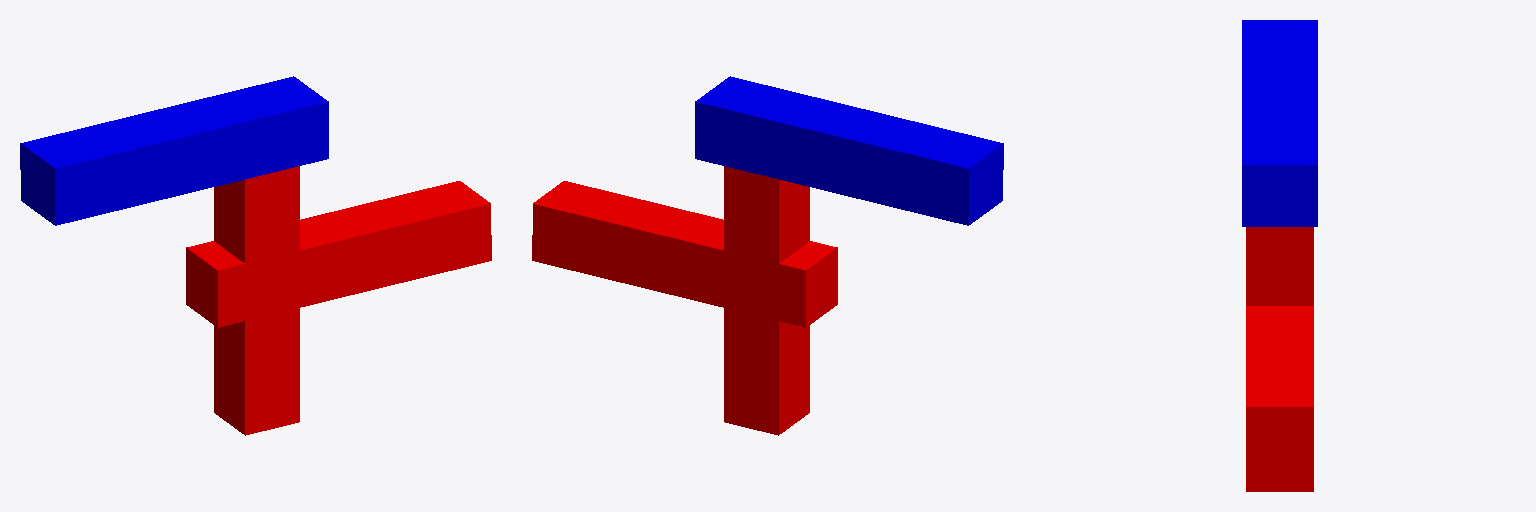
URDF robot description (fixed_joint):
<robot name="fixed_joint">
    <link name="red_link">
        <inertial>
            <origin xyz="0.0 0.0 0.0" rpy="0.0 0.0 0.0"/>
            <mass value="0.0"/>
            <inertia ixx="0.0" ixy="0.0" ixz="0.0" iyy="0.0" iyz="0.0" izz="0.0"/>
        </inertial>
        <visual name="">
            <origin xyz="0.0 0.0 0.5" rpy="0.0 0.0 0.0"/>
            <geometry>
                <box size="0.2 0.2 1.0"/>
            </geometry>
            <material name="">
                <color rgba="1.0 0.0 0.0 1.0"/>
                <texture filename=""/>
            </material>
        </visual>
        <collision>
            <origin xyz="0.0 0.0 0.5" rpy="0.0 0.0 0.0"/>
            <geometry>
                <box size="0.2 0.2 1.0"/>
            </geometry>
        </collision>

        <visual name="">
            <origin xyz="0.3 0.0 0.5" rpy="0.0 1.57 0.0"/>
            <geometry>
                <box size="0.2 0.2 1.0"/>
            </geometry>
            <material name="">
                <color rgba="1.0 0.0 0.0 1.0"/>
                <texture filename=""/>
            </material>
        </visual>
        <collision>
            <origin xyz="0.3 0.0 0.5" rpy="0.0 1.57 0.0"/>
            <geometry>
                <box size="0.2 0.2 1.0"/>
            </geometry>
        </collision>
    </link>

    <link name="blue_link">
        <inertial>
            <origin xyz="0.0 0.0 0.0" rpy="0.0 0.0 0.0"/>
            <mass value="0.0"/>
            <inertia ixx="0.0" ixy="0.0" ixz="0.0" iyy="0.0" iyz="0.0" izz="0.0"/>
        </inertial>
        <visual name="">
             <origin xyz="-0.3 0.0 0.0" rpy="0.0 1.57 0.0"/>
            <geometry>
                <box size="0.2 0.22 1.0"/>
            </geometry>
            <material name="">
                <color rgba="0.0 0.0 1.0 1.0"/>
                <texture filename=""/>
            </material>
        </visual>
        <collision>
            <origin xyz="-0.3 0.0 0.0" rpy="0.0 1.57 0.0"/>
            <geometry>
                <box size="0.2 0.22 1.0"/>
            </geometry>
        </collision>
    </link>

    <joint name="red_blue_joint" type="fixed">
        <origin xyz="0.0 0.0 1.0" rpy="0.0 0.0 0.0"/>
        <parent link="red_link"/>
        <child link="blue_link"/>
    </joint>
</robot>

--- What the picture shows (computed from the rendered views, not written in the file) ---
Views: 3 orthographic renders of the robot side by side, from view 1: azimuth 30°, elevation 25°; view 2: azimuth 150°, elevation 25°; view 3: azimuth 270°, elevation 25°.
Robot: fixed_joint — 2 links, 1 joints (1 fixed); root link red_link; default pose: every joint at zero.
Visible links, largest first — view 1: red_link, blue_link; view 2: red_link, blue_link; view 3: red_link, blue_link.
Link boxes in pixels (bbox=[...]): red_link: bbox=[186, 166, 491, 435]; blue_link: bbox=[20, 76, 328, 225]; red_link: bbox=[532, 166, 837, 435]; blue_link: bbox=[695, 76, 1003, 225]; red_link: bbox=[1246, 227, 1313, 491]; blue_link: bbox=[1242, 20, 1317, 226].
Bounding box of the posed robot: 1.6 × 0.22 × 1.1 m (x, y, z).
Geometry: primitives only (box / cylinder / sphere), no mesh files.